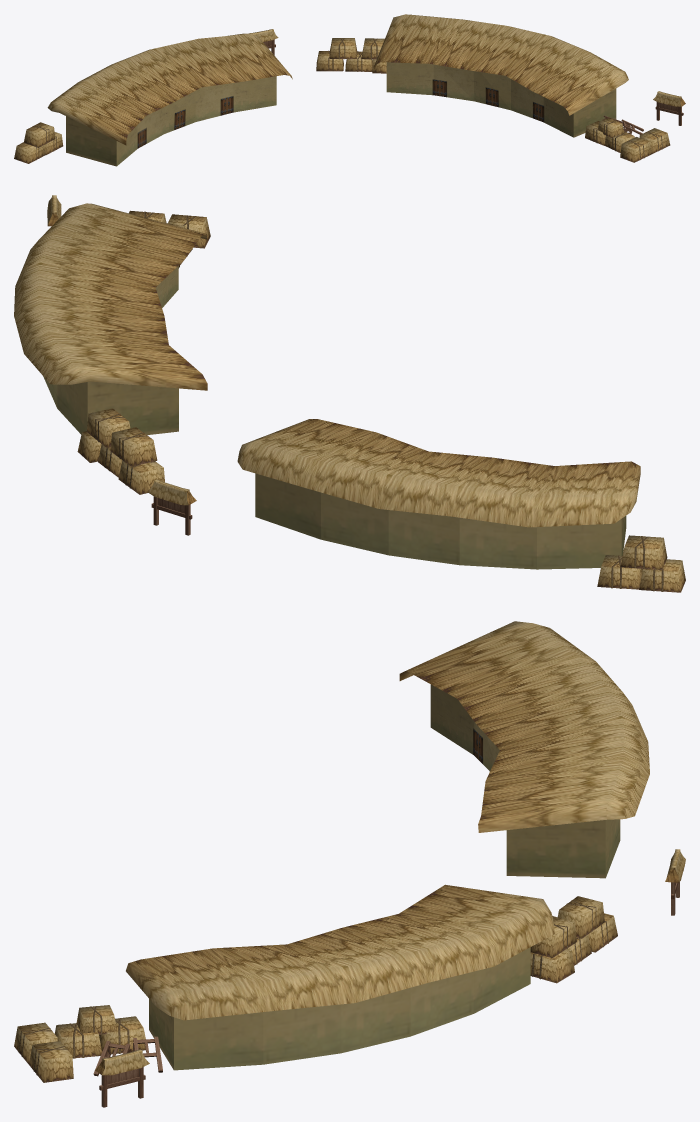
File: Area_06_39.fbx
3 views of the same model, one above another, from view 1: azimuth 30°, elevation 25°; view 2: azimuth 150°, elevation 25°; view 3: azimuth 270°, elevation 25° (orthographic). The views are drawn at different scales.
Visible parts, largest first — view 1: Area_06_39; view 2: Area_06_39; view 3: Area_06_39.
Boxes of the visible parts, box(x1,y1,x2,y2) form: Area_06_39: box(14, 14, 685, 166); Area_06_39: box(14, 195, 685, 592); Area_06_39: box(14, 621, 685, 1107).
Size of the model in its own units: 5676 by 544 by 3684.
